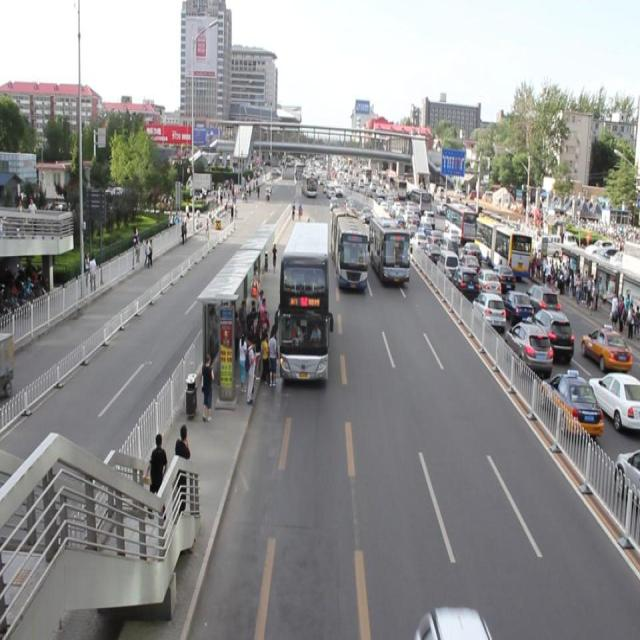car: (360, 203, 371, 224), (345, 199, 355, 215), (329, 197, 338, 211)
van: (280, 222, 328, 382), (331, 208, 365, 289), (368, 217, 408, 284)
